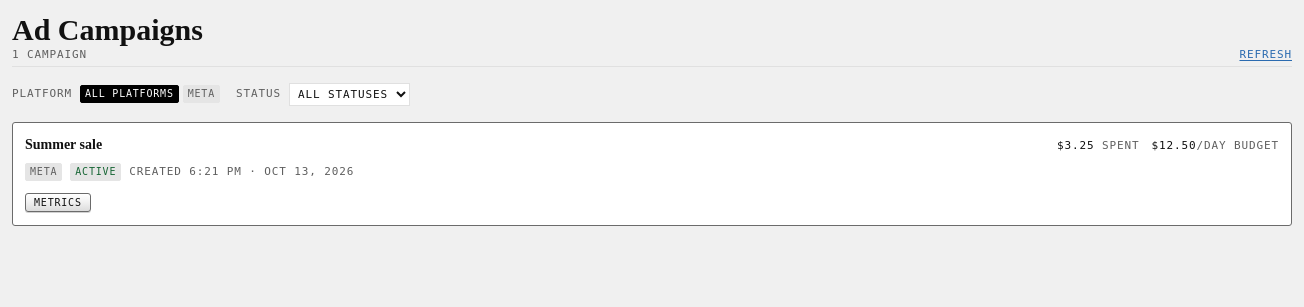
Ads — stored campaign metrics have a real consumer › a failed read names the failure (ApiError.display), never an empty table
The width and height of the screenshot is (1304, 307).
Check: the element with test id "campaign-row" is shown, box x1=12 y1=122 x2=1292 y2=226
Click the button with test id "campaign-metrics-toggle-7" at coordinates (58, 203), box x1=25 y1=193 x2=91 y2=212
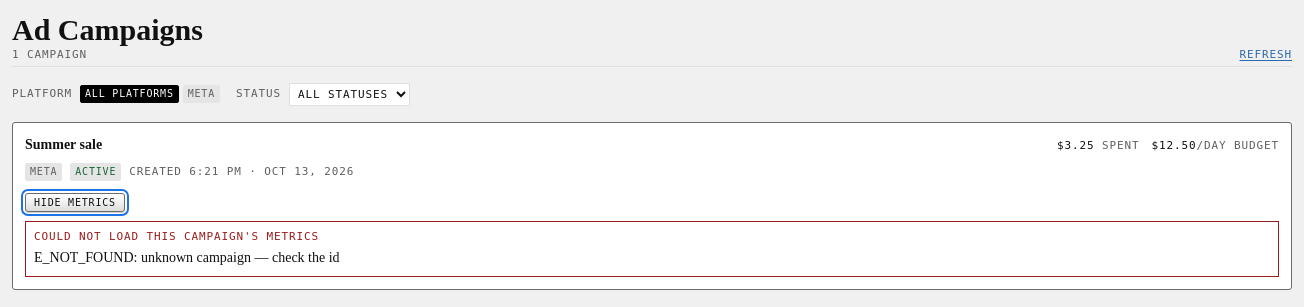
Check: the element with test id "campaign-metrics-7" does not show "No stored metric days", box x1=25 y1=221 x2=1279 y2=277
Check: the element with test id "campaign-metrics-7" shows "E_NOT_FOUND: unknown campaign — check the id", box x1=34 y1=250 x2=340 y2=264
